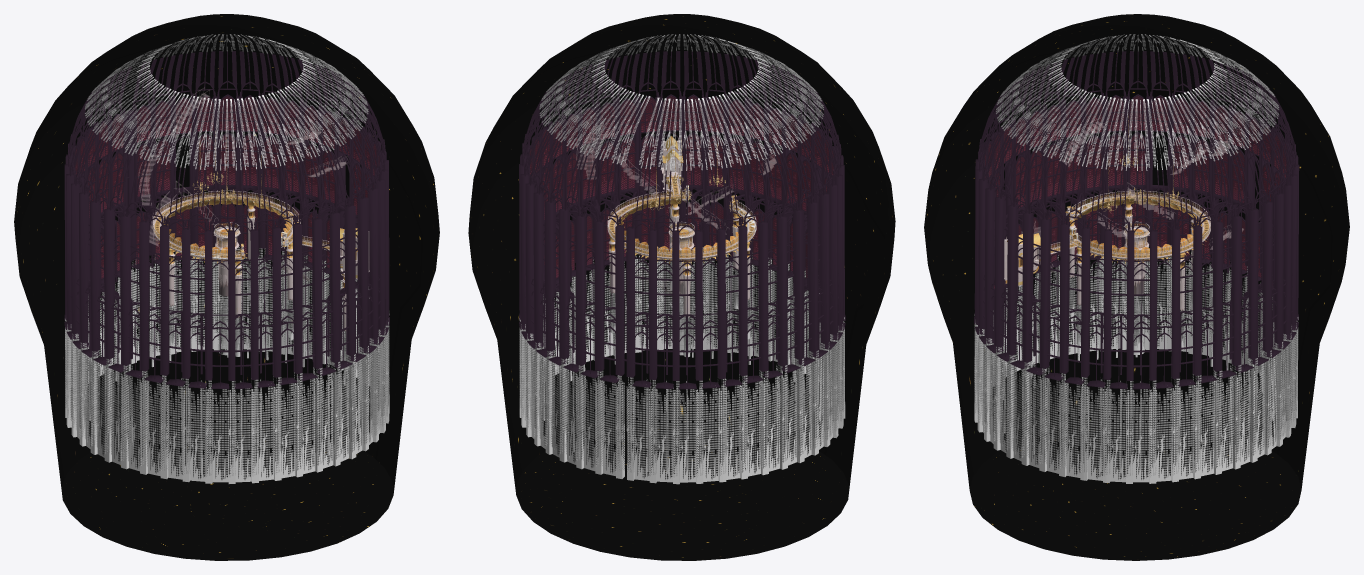
File: boss_fight_opt.glb
The picture shows the model from 3 angles, left to right: view 1: azimuth 30°, elevation 25°; view 2: azimuth 150°, elevation 25°; view 3: azimuth 270°, elevation 25°; orthographic projection.
Parts seen in each view (by area): view 1: mesh_145, mesh_144, mesh_313, mesh_172, mesh_249, mesh_346, mesh_309, mesh_326, mesh_303; view 2: mesh_145, mesh_144, mesh_313, mesh_172, mesh_249, mesh_346, mesh_309, mesh_303, mesh_326; view 3: mesh_145, mesh_144, mesh_313, mesh_249, mesh_172, mesh_346, mesh_309, mesh_303, mesh_326.
Part boxes in pixels (bbox=[...]): mesh_145: bbox=[14, 14, 439, 560]; mesh_144: bbox=[64, 51, 389, 389]; mesh_313: bbox=[65, 34, 389, 483]; mesh_172: bbox=[165, 206, 369, 331]; mesh_249: bbox=[152, 190, 329, 260]; mesh_346: bbox=[139, 87, 347, 280]; mesh_309: bbox=[153, 192, 329, 257]; mesh_326: bbox=[169, 261, 349, 370]; mesh_303: bbox=[155, 198, 291, 263]; mesh_145: bbox=[468, 14, 895, 560]; mesh_144: bbox=[519, 51, 845, 389]; mesh_313: bbox=[519, 34, 845, 484]; mesh_172: bbox=[608, 142, 750, 317]; mesh_249: bbox=[607, 172, 756, 260]; mesh_346: bbox=[576, 118, 776, 293]; mesh_309: bbox=[608, 192, 755, 257]; mesh_303: bbox=[611, 198, 753, 263]; mesh_326: bbox=[610, 261, 749, 357]; mesh_145: bbox=[924, 14, 1349, 560]; mesh_144: bbox=[974, 51, 1299, 389]; mesh_313: bbox=[974, 34, 1298, 483]; mesh_249: bbox=[1050, 190, 1210, 260]; mesh_172: bbox=[1004, 204, 1196, 310]; mesh_346: bbox=[1034, 118, 1243, 272]; mesh_309: bbox=[1050, 192, 1210, 257]; mesh_303: bbox=[1074, 198, 1208, 263]; mesh_326: bbox=[1023, 262, 1192, 376].
Size of the model in its own units: 35.4 by 41.74 by 35.27.
14 materials, 13 textured.
